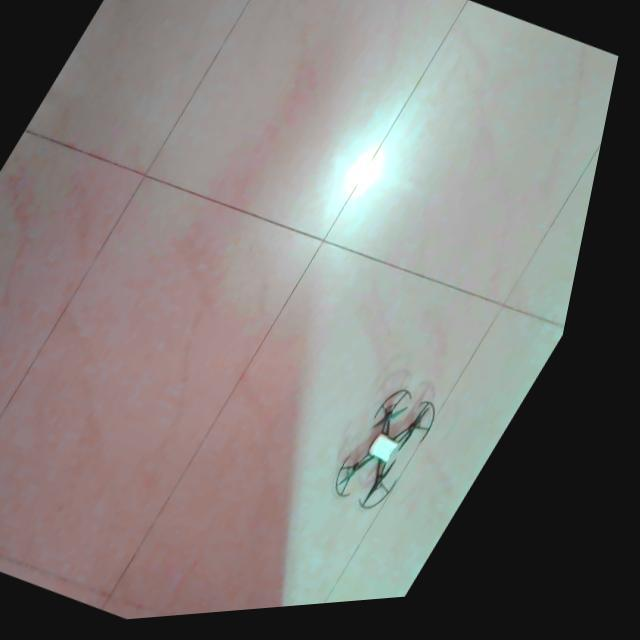drone: (355, 395, 453, 517)
